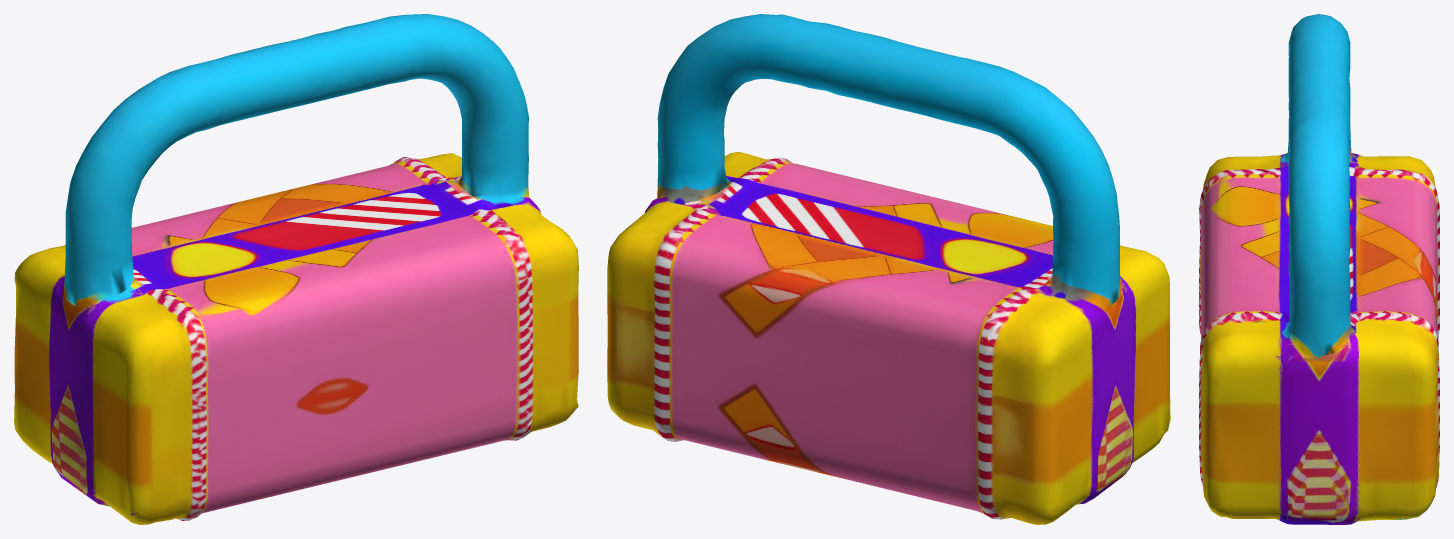
The model's file is orange_safety_bumper.glb.
3 views of the same model, side by side, from view 1: azimuth 30°, elevation 25°; view 2: azimuth 150°, elevation 25°; view 3: azimuth 270°, elevation 25° (orthographic). The views are drawn at different scales.
Parts seen in each view (by area): view 1: Mesh_0; view 2: Mesh_0; view 3: Mesh_0.
Part boxes in pixels (x1,y1,x2,y2): Mesh_0: [14, 14, 578, 524]; Mesh_0: [607, 14, 1170, 524]; Mesh_0: [1199, 14, 1439, 524].
Size of the model in its own units: 0.2124 by 0.18 by 0.1073.
1 material, 1 textured.
